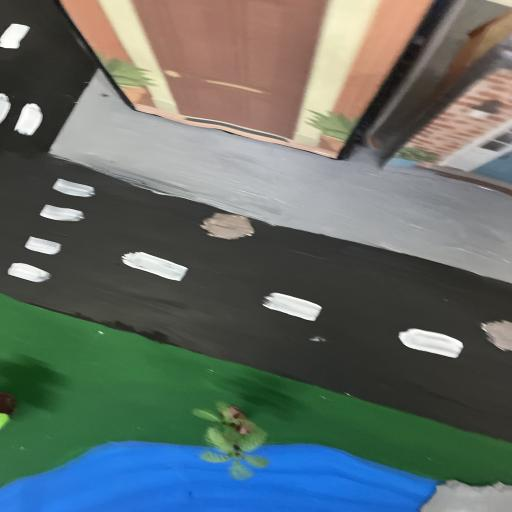encroachment: (420, 480, 512, 512)
porthole: (200, 212, 256, 238), (477, 319, 512, 353)
